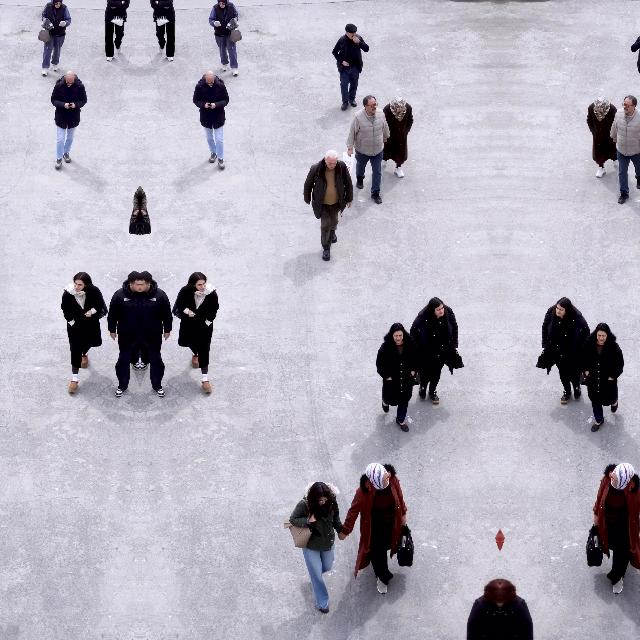person: (338, 462, 408, 594), (288, 481, 346, 614), (592, 462, 640, 594), (540, 297, 592, 405), (172, 271, 218, 393), (62, 271, 108, 393), (303, 149, 353, 261), (408, 297, 459, 405), (376, 323, 420, 432), (580, 323, 624, 432), (346, 96, 390, 204), (140, 270, 172, 398), (108, 270, 140, 398), (192, 70, 230, 170), (50, 70, 88, 170), (609, 95, 640, 204), (331, 24, 369, 110), (382, 96, 414, 178), (586, 96, 618, 178), (208, 0, 240, 76), (40, 0, 72, 76), (466, 578, 500, 640), (500, 578, 534, 640), (150, 0, 176, 62), (104, 0, 130, 62), (631, 23, 640, 110), (140, 186, 152, 236), (128, 186, 140, 236), (496, 527, 500, 551), (500, 527, 504, 551)
